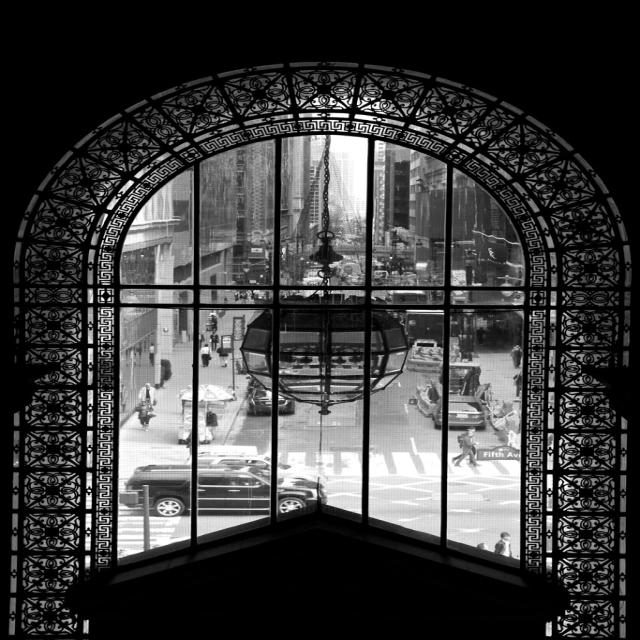car: (114, 460, 328, 514), (435, 399, 487, 437), (249, 384, 295, 408)
